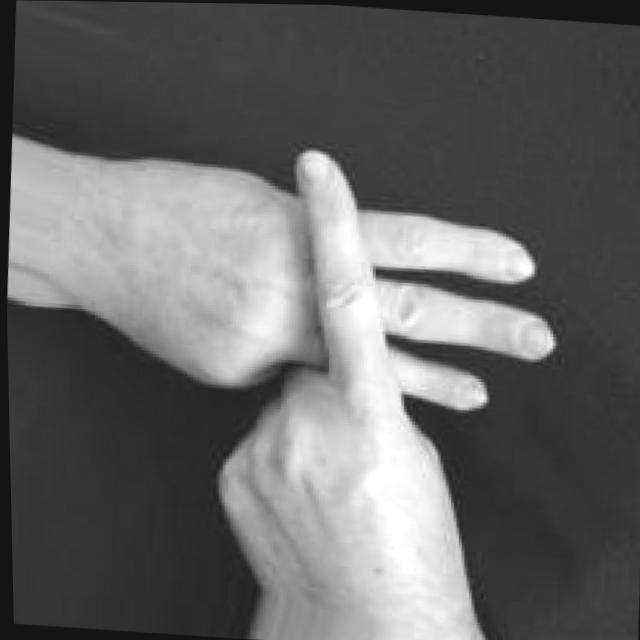E: (70, 133, 578, 621)
